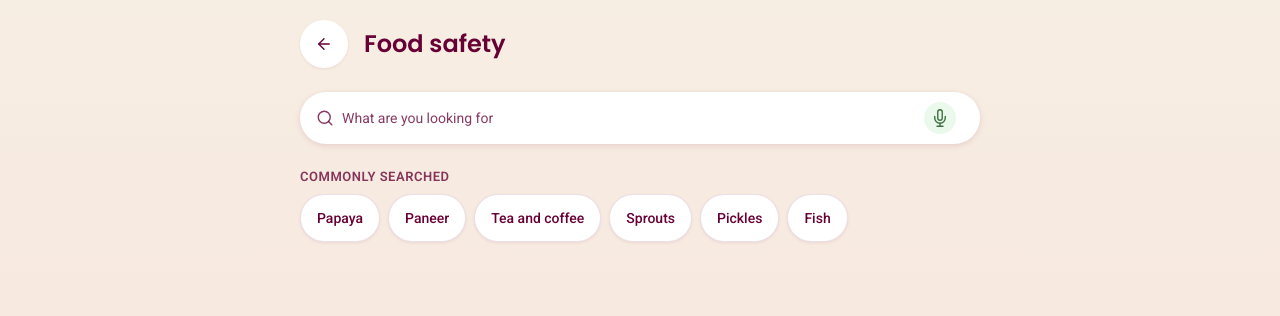
it: FoodSafetyLookup › prefills a chip as a real query and keeps the citation on every result
This screenshot has width=1280, height=316.
Click the button "Pickles" at (740, 218), box [700,194,779,242]
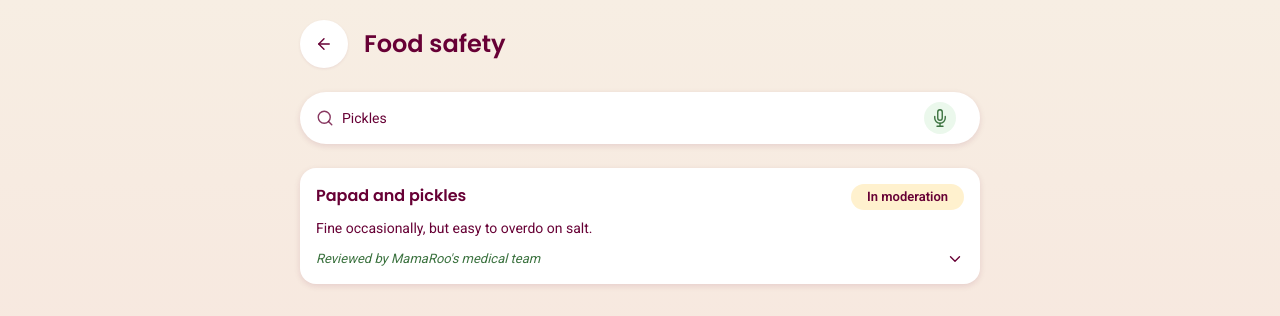
Result: the search field named "What are you looking for" holds "Pickles" at [342,108,916,128]
Result: the text "Papad and pickles" is shown at [316,184,466,208]
